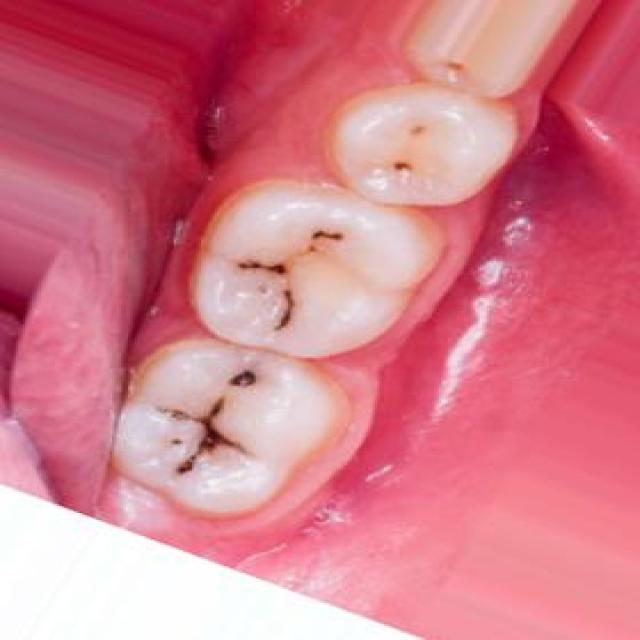caries: (148, 394, 255, 484), (254, 286, 315, 335), (371, 142, 431, 189), (300, 210, 358, 258), (213, 354, 269, 396), (229, 249, 301, 281), (398, 117, 449, 151)
